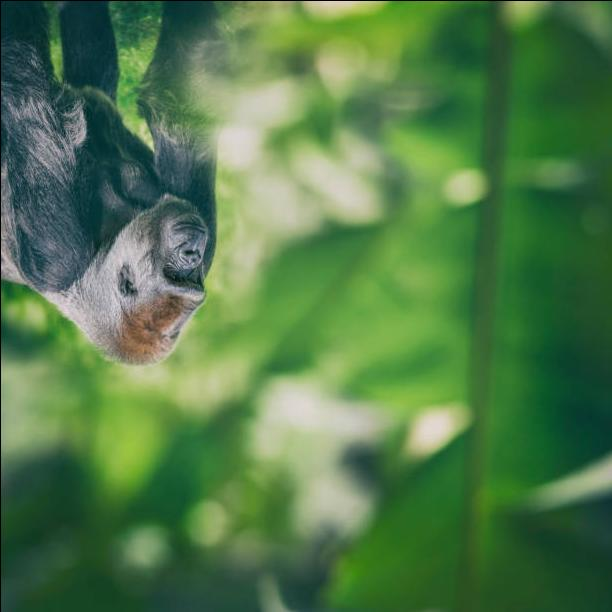gorille_Autres: (0, 2, 214, 393)
